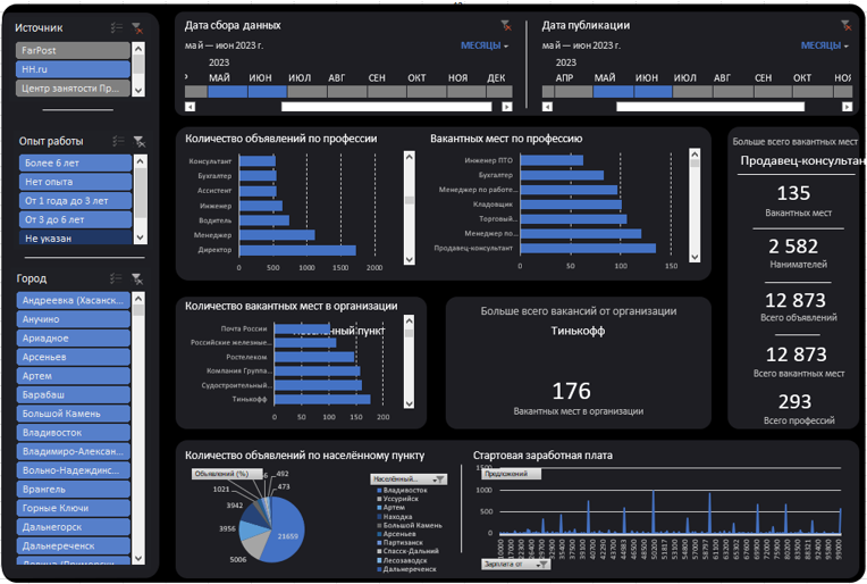

Layout of this report page (visuals, bound fields, positions):
{"tool":"powerbi","page":{"name":"Страница 1","canvas":[1280,720],"ordinal":0},"visuals":[{"type":"clusteredBarChart","title":"Количество объявлений по профессии","fields":{"Category":["Данные.profession"],"Y":["CountNonNull(Данные.profession)"]},"box":[259,19,355,230],"z":0},{"type":"barChart","title":"Вакантных мест на профессию","fields":{"Category":["Данные.vacancy"],"Y":["Sum(Данные.people_required)"]},"box":[622,19,420,230],"z":1000},{"type":"card","fields":{"Values":["Sum(Данные.people_required)"]},"box":[1076,331,198,73],"z":2000},{"type":"card","fields":{"Values":["CountNonNull(Данные.vacancy)"]},"box":[1075,249,198,68],"z":3000},{"type":"card","fields":{"Values":["Count(Данные.profession)"]},"box":[1076,404,198,73],"z":4000},{"type":"card","fields":{"Values":["Count(Данные.employer)"]},"box":[1074,163,198,73],"z":5000},{"type":"slicer","title":"Населённый пункт","fields":{"Values":["Данные.locality"]},"box":[9,295,206,405],"z":6000},{"type":"slicer","title":"Дата публикации","fields":{"Values":["Данные.publication_date"]},"box":[0,19,216,96],"z":7000},{"type":"slicer","title":"Опыт работы","fields":{"Values":["Данные.experience"]},"box":[0,205,219,72],"z":8000},{"type":"lineChart","title":"Стартовая заработная плата","fields":{"Category":["Данные.salary_from"],"Y":["CountNonNull(Данные.salary_from)"]},"box":[686,509,586,200],"z":9000},{"type":"card","title":"Больше всего вакансий от организации","fields":{"Values":["Min(Данные.employer)"]},"box":[662,287,369,101],"z":10000},{"type":"card","title":"Вакантых мест","fields":{"Values":["Sum(Данные.people_required)"]},"box":[681,380,332,83],"z":11000},{"type":"card","title":"Больше всего вакантных мест","fields":{"Values":["Min(Данные.vacancy)"]},"box":[1075,21,198,69],"z":12000},{"type":"slicer","title":"Источник","fields":{"Values":["Данные.source"]},"box":[0,127,219,71],"z":13000},{"type":"pieChart","title":"Количество объявлений по населённому пункту","fields":{"Y":["CountNonNull(Данные.source)"],"Category":["Данные.locality"]},"box":[259,509,397,200],"z":14000},{"type":"card","fields":{"Values":["Sum(Данные.people_required)"]},"box":[1076,81,197,72],"z":15000},{"type":"barChart","title":"Количество вакантных мест в организации","fields":{"Category":["Данные.employer"],"Y":["Sum(Данные.people_required)"]},"box":[258.5,276.9,363.1,199.9],"z":16000}]}

Visuals, with their boxes on the page's 1280x720 design canvas (x1, y1, x2, y2). These are canvas units, not pixel positions in the 867x584 screenshot, which may show the page scaled, cropped or inside an application window:
"Количество объявлений по профессии" clusteredBarChart: 259/19/614/249
"Вакантных мест на профессию" barChart: 622/19/1042/249
card - Sum(Данные.people_required): 1076/331/1274/404
card - CountNonNull(Данные.vacancy): 1075/249/1273/317
card - Count(Данные.profession): 1076/404/1274/477
card - Count(Данные.employer): 1074/163/1272/236
"Населённый пункт" slicer: 9/295/215/700
"Дата публикации" slicer: 0/19/216/115
"Опыт работы" slicer: 0/205/219/277
"Стартовая заработная плата" lineChart: 686/509/1272/709
"Больше всего вакансий от организации" card: 662/287/1031/388
"Вакантых мест" card: 681/380/1013/463
"Больше всего вакантных мест" card: 1075/21/1273/90
"Источник" slicer: 0/127/219/198
"Количество объявлений по населённому пункту" pieChart: 259/509/656/709
card - Sum(Данные.people_required): 1076/81/1273/153
"Количество вакантных мест в организации" barChart: 258/277/622/477
